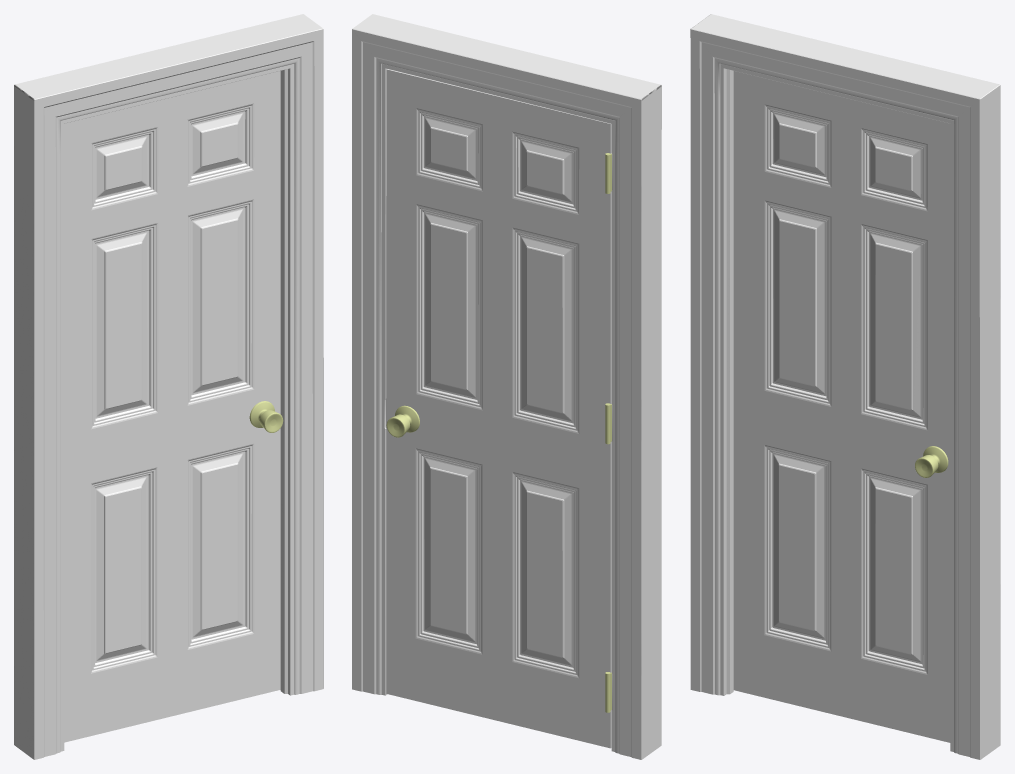
Rendered from panel_interior_door_closed.glb.
3 renders of one model, left to right at view 1: azimuth 30°, elevation 25°; view 2: azimuth 150°, elevation 25°; view 3: azimuth 330°, elevation 25°, orthographic.
Visible parts, largest first — view 1: handleBase_geo, doorFrame_geo; view 2: handleBase_geo, doorFrame_geo; view 3: handleBase_geo, doorFrame_geo.
Part boxes in pixels (bbox=[...]): handleBase_geo: bbox=[64, 71, 283, 742]; doorFrame_geo: bbox=[14, 14, 323, 759]; handleBase_geo: bbox=[386, 69, 611, 748]; doorFrame_geo: bbox=[352, 14, 661, 759]; handleBase_geo: bbox=[733, 71, 950, 742]; doorFrame_geo: bbox=[690, 14, 1000, 759].
Bounding box in the file's own units: 0.9751 × 2.12 × 0.1915.
Materials: 2 (1 with a texture image).
